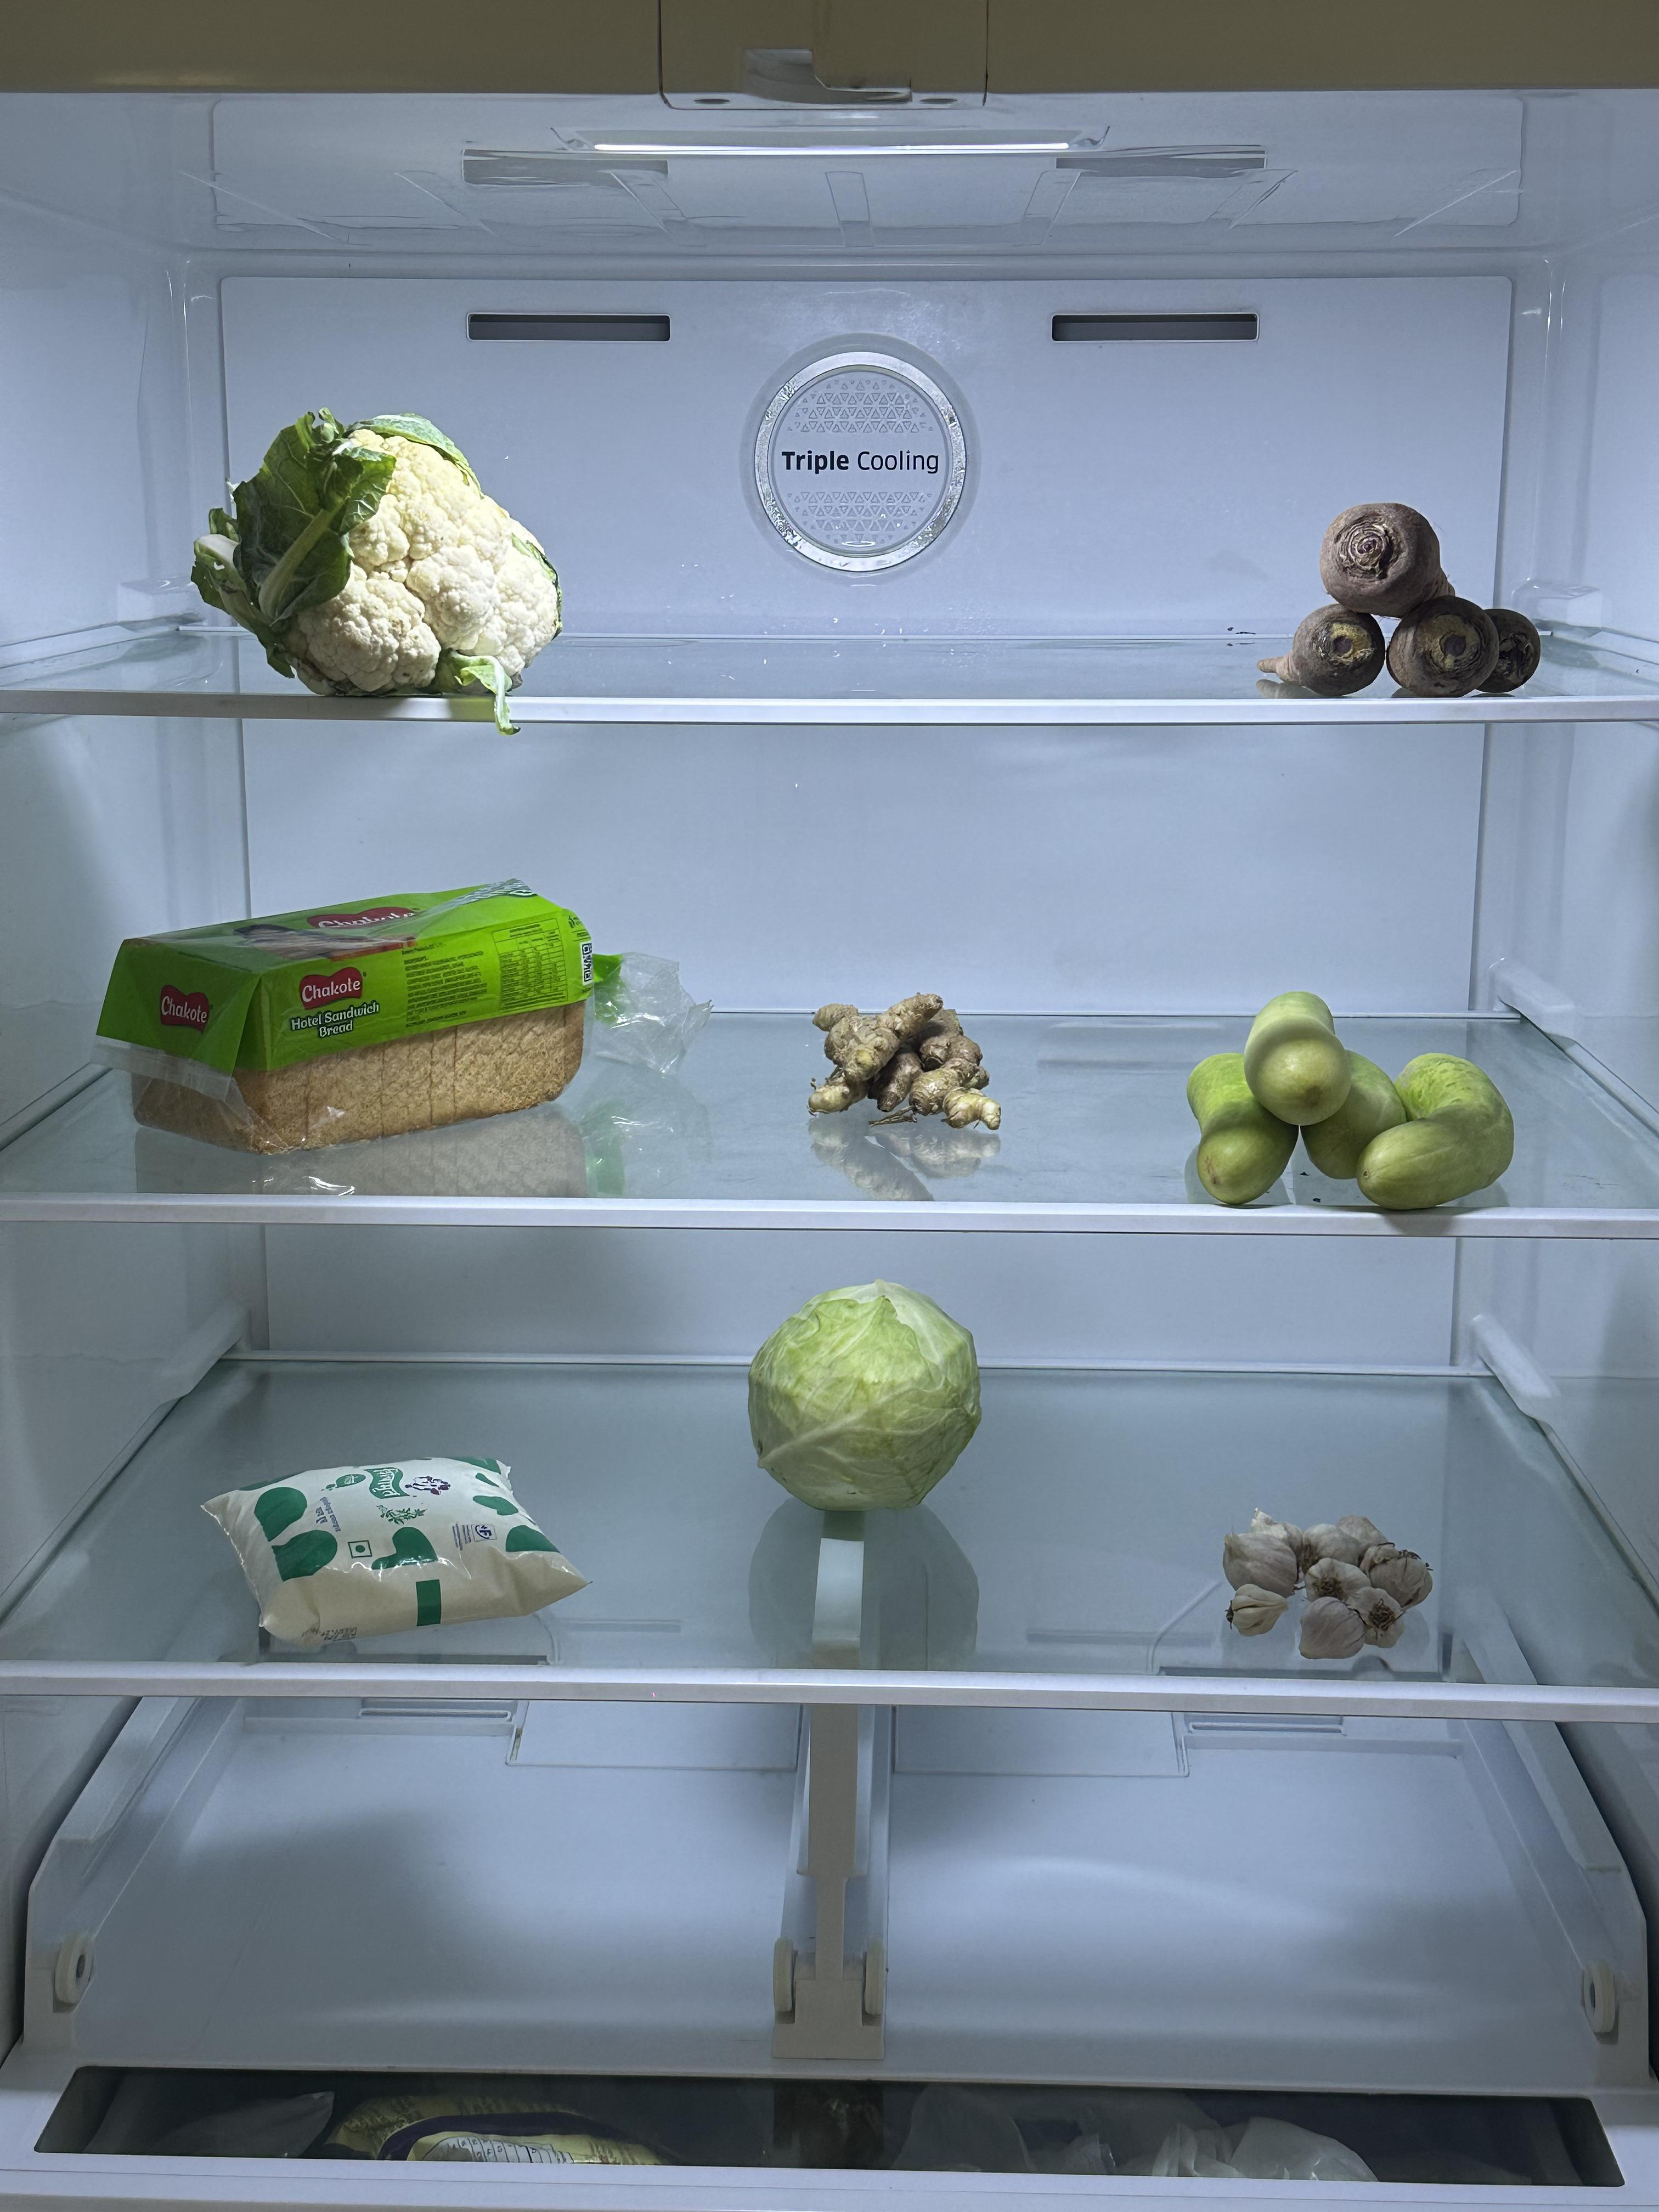bread: (99, 880, 652, 1148)
cabbage: (742, 1285, 1012, 1522)
carrots: (1269, 474, 1539, 714)
cauliflower: (188, 390, 579, 709)
cucumber: (1175, 972, 1530, 1211)
garlic: (1197, 1477, 1438, 1667)
ginger: (798, 977, 1021, 1139)
milk: (188, 1439, 596, 1662)
